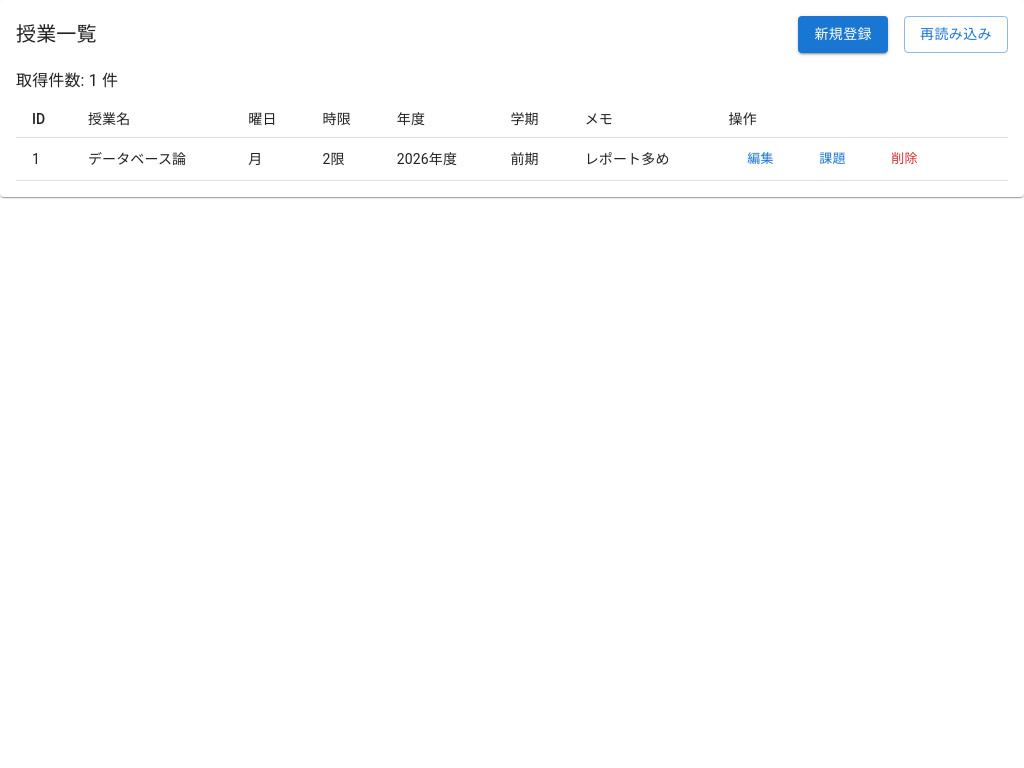
授業の削除 › 削除に失敗すると原因が分かるメッセージを表示する
The image size is (1024, 768).
Check: the text "データベース論" is shown, box [72,137,232,181]
Click the button with aria-label "授業「データベース論」を削除": (904, 159) [872,144,936,174]
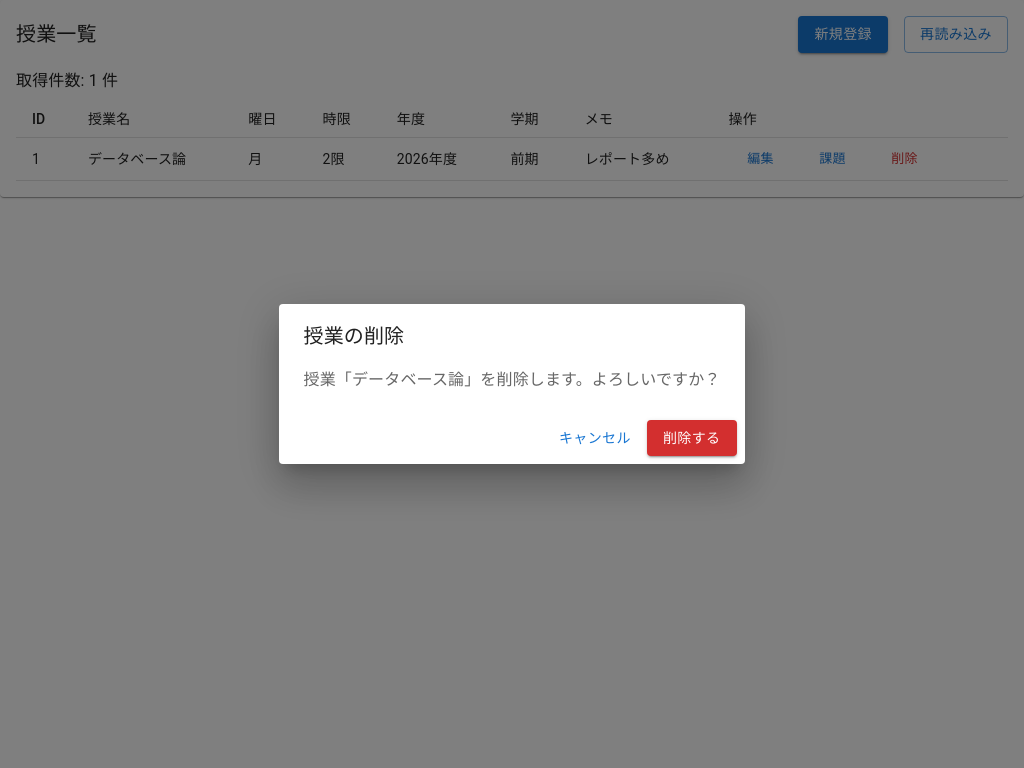
Click the button "削除する": (692, 438) [647,420,736,456]
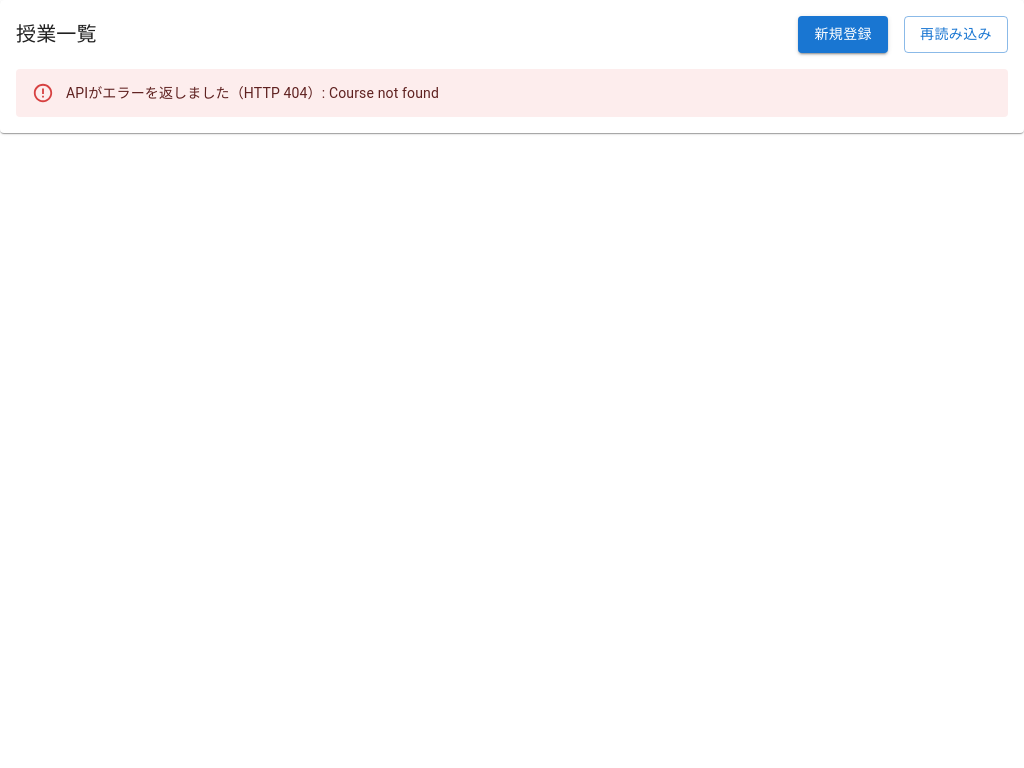
Check: the message shows "404", box [66,84,439,100]
Check: the message shows "Course not found", box [66,84,439,100]
